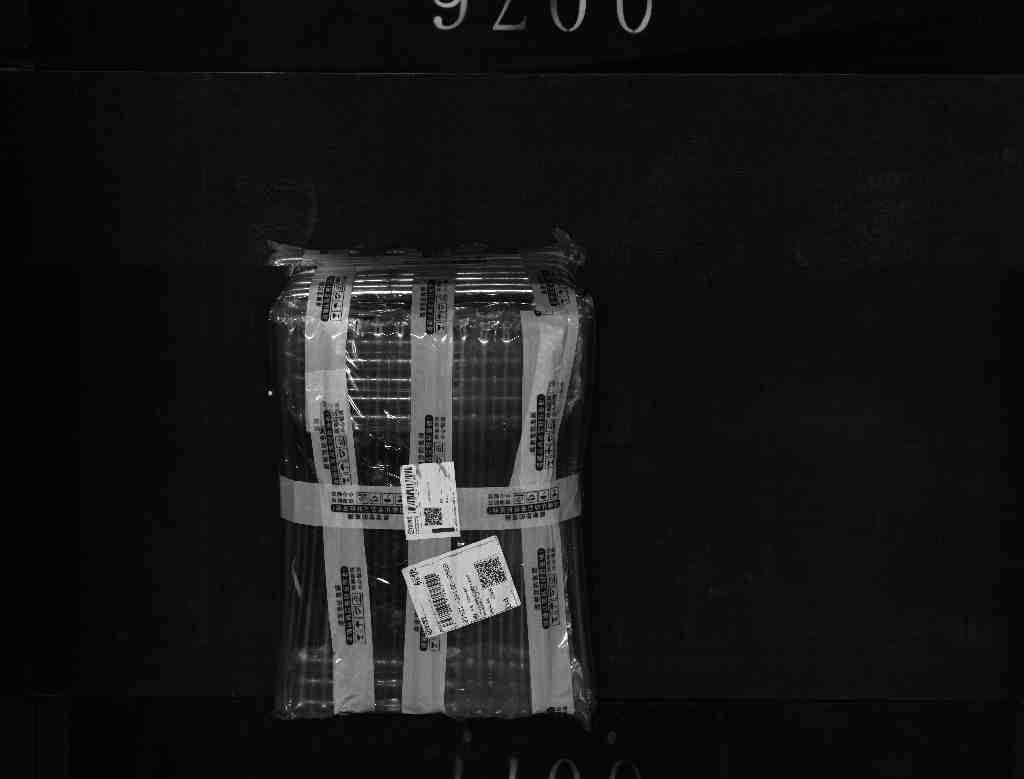box: (226, 226, 612, 733)
